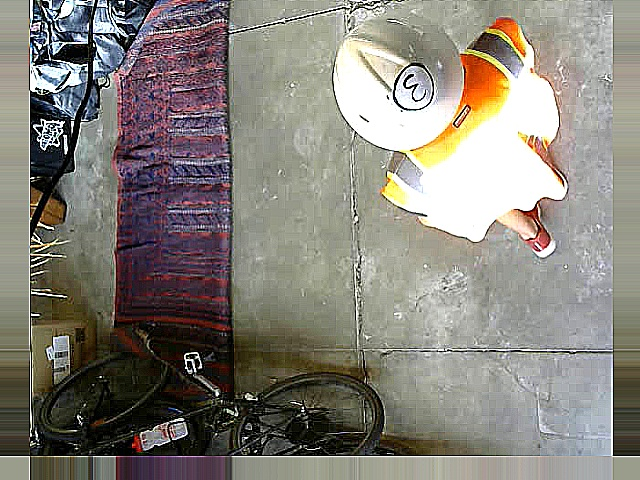three: (391, 62, 433, 112)
